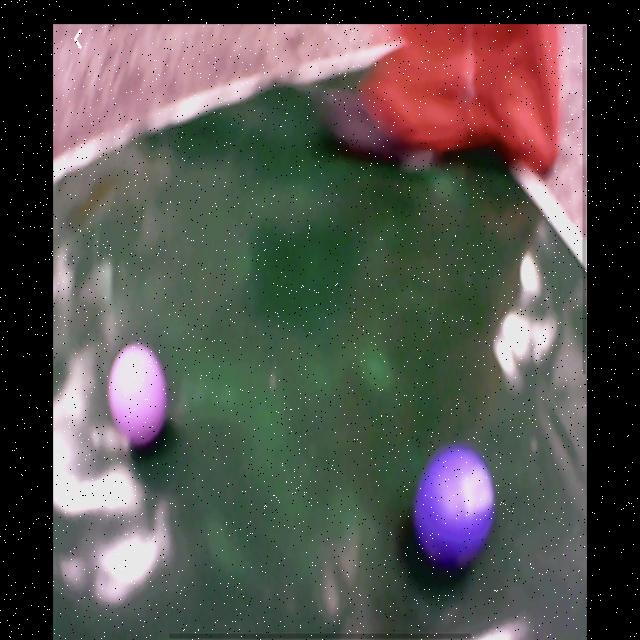ball: (417, 443, 494, 574), (107, 344, 168, 445)
